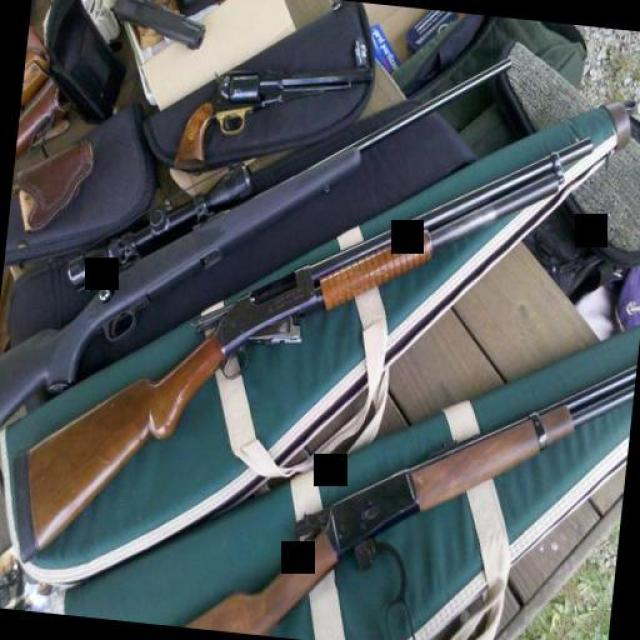gun: (166, 37, 374, 192), (102, 0, 208, 59)
